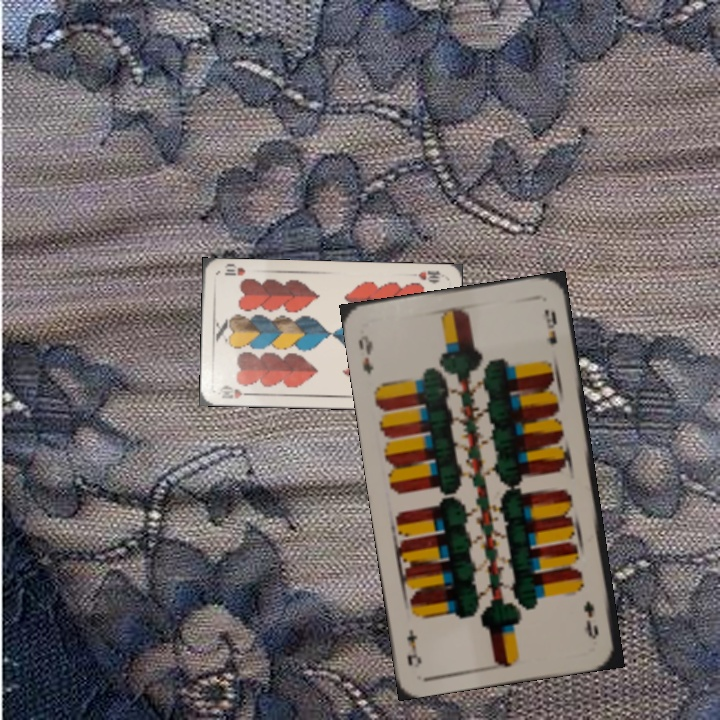E9: (354, 331, 376, 377), (579, 597, 601, 642)
H10: (214, 382, 255, 401), (415, 266, 443, 286)
